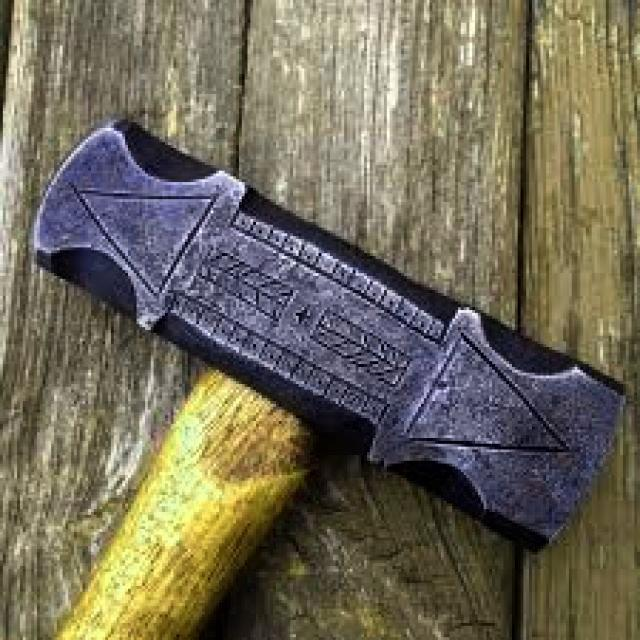hammer: (22, 114, 634, 640)
